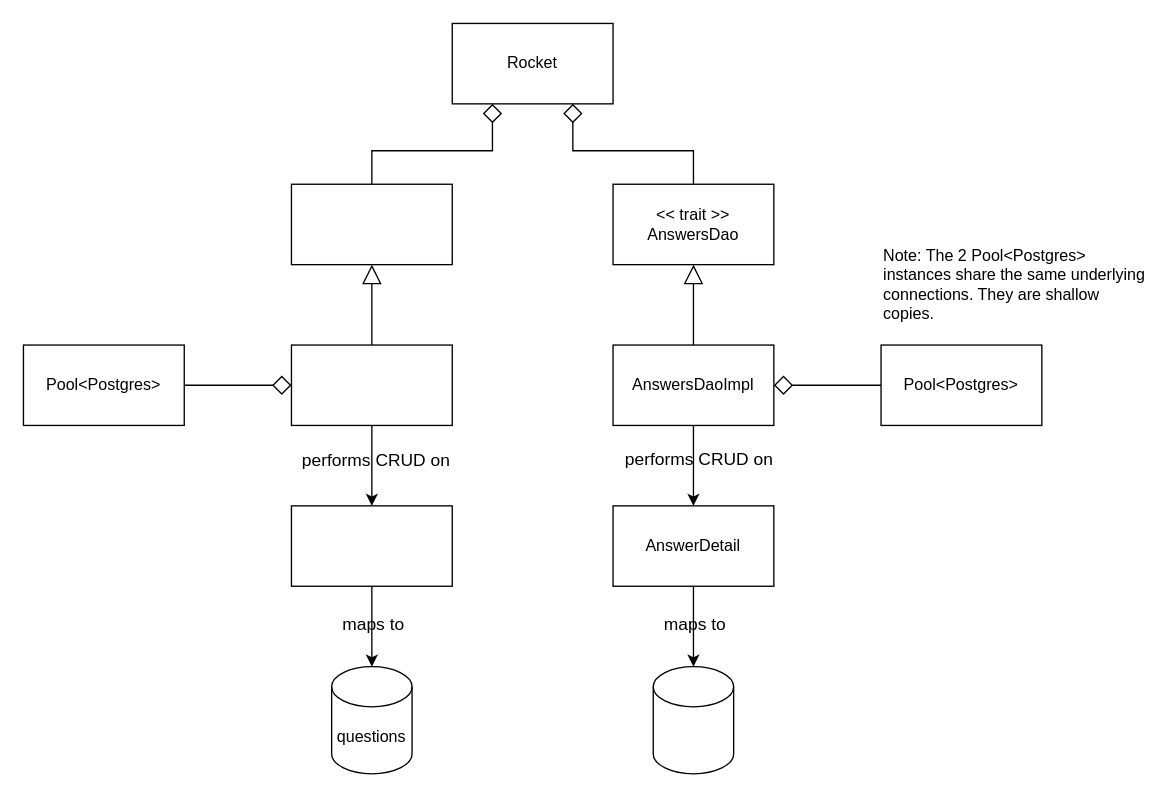
The diagram is 1173 pixels wide and 797 high, and some of its shapes have lost their labels. The shapes that lost their labels are listed below. From the top down, each one's box as (x1, y1, x2, y2) in pixels, then its label:
(290, 183, 452, 265): << trait >> QuestionsDao
(290, 344, 452, 425): QuestionsDaoImpl
(290, 505, 452, 586): QuestionDetail
(652, 665, 734, 774): answers
